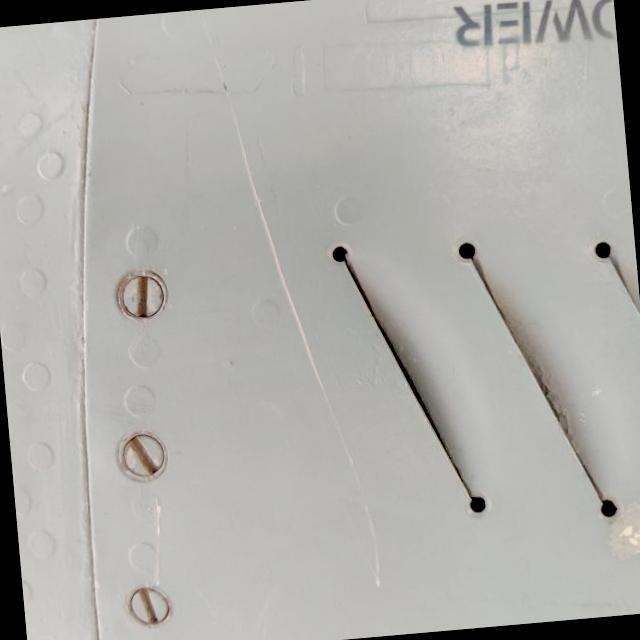scratch: (214, 88, 424, 610)
